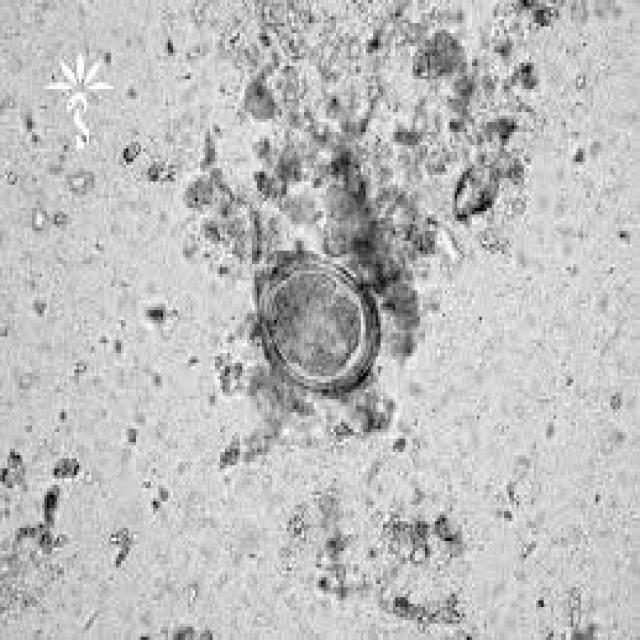Ascaris Lumbricoides: (248, 241, 387, 399)
